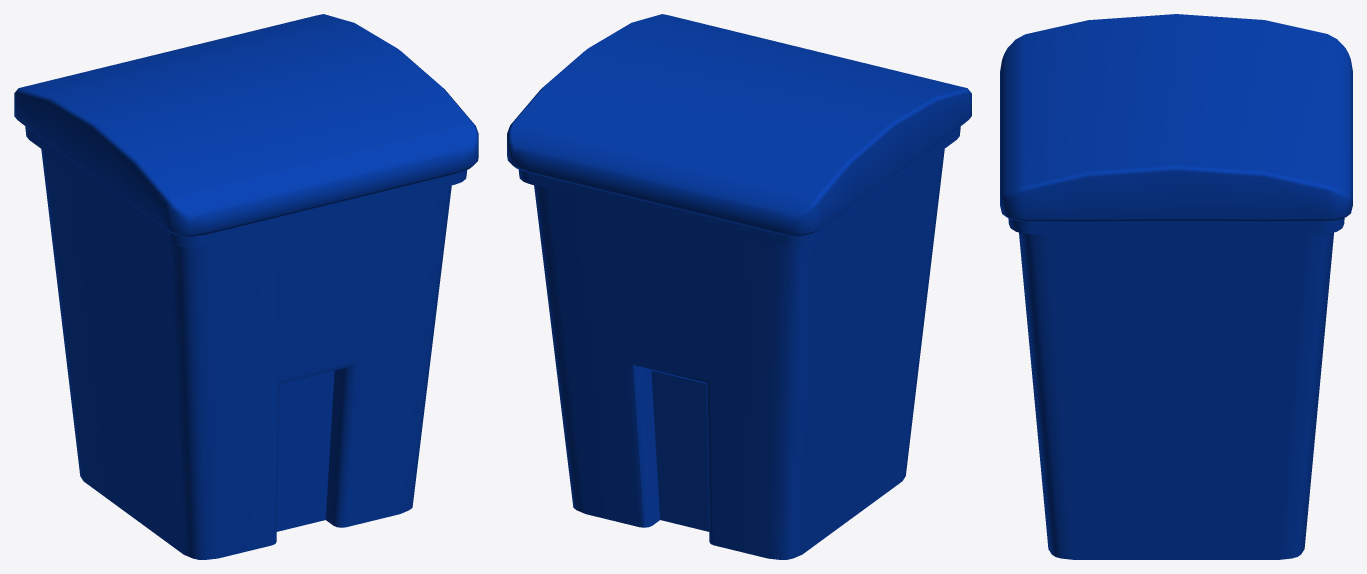
The model's file is SM_Trash_Bin_01.fbx.
3 renders of one model, left to right at view 1: azimuth 30°, elevation 25°; view 2: azimuth 150°, elevation 25°; view 3: azimuth 270°, elevation 25°, orthographic. The views are drawn at different scales.
Parts seen in each view (by area): view 1: SM_Trash_Bin_01, SM_Trash_Bin_Top; view 2: SM_Trash_Bin_01, SM_Trash_Bin_Top; view 3: SM_Trash_Bin_01, SM_Trash_Bin_Top.
Boxes of the visible parts, x1=… form: SM_Trash_Bin_01: x1=25, y1=126, x2=467, y2=559; SM_Trash_Bin_Top: x1=14, y1=14, x2=478, y2=237; SM_Trash_Bin_01: x1=518, y1=126, x2=960, y2=559; SM_Trash_Bin_Top: x1=507, y1=14, x2=971, y2=236; SM_Trash_Bin_01: x1=1008, y1=218, x2=1344, y2=559; SM_Trash_Bin_Top: x1=1000, y1=14, x2=1352, y2=221.
Bounding box in the file's own units: 213 × 265 × 205.
